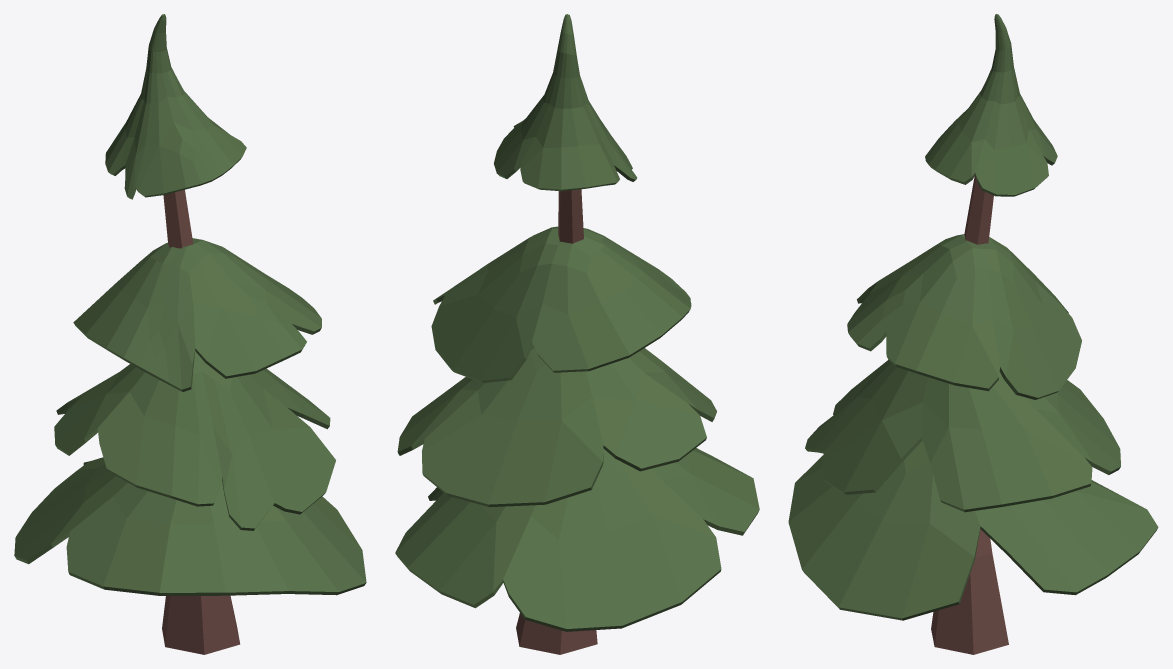
Rendered from pinetree_2.glb.
3 renders of one model, left to right at view 1: azimuth 30°, elevation 25°; view 2: azimuth 150°, elevation 25°; view 3: azimuth 270°, elevation 25°, orthographic. The views are drawn at different scales.
Parts seen in each view (by area): view 1: PineTree_2; view 2: PineTree_2; view 3: PineTree_2.
Part boxes in pixels (x1,y1,x2,y2): PineTree_2: (14,14,366,654); PineTree_2: (395,14,759,654); PineTree_2: (788,14,1158,654).
Bounding box in the file's own units: 4.49 × 8.91 × 4.89.
